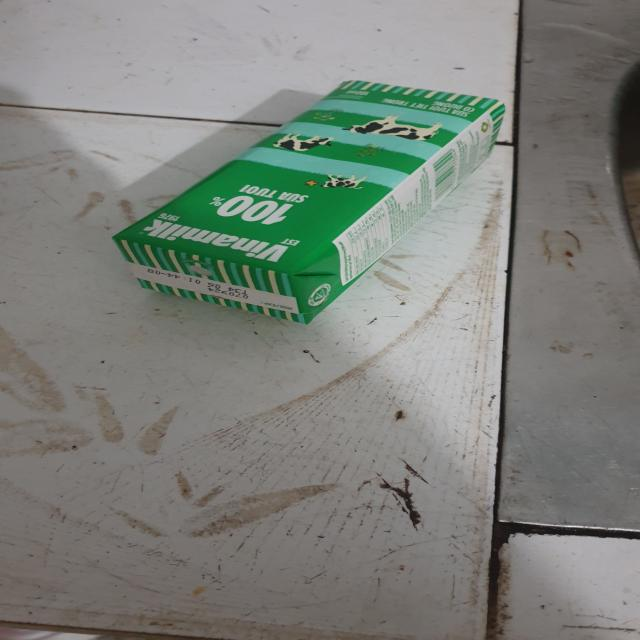Vina: (117, 82, 512, 325)
